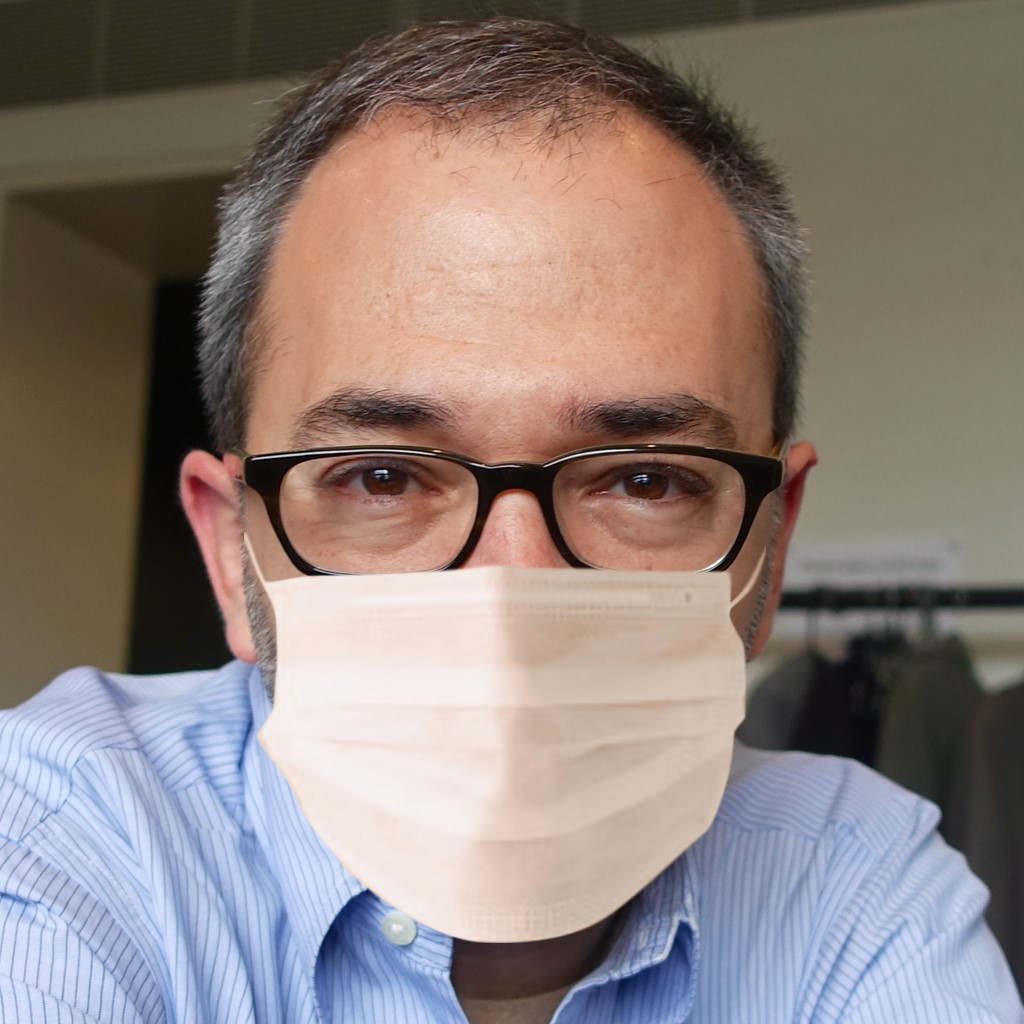con_mascara: (213, 64, 782, 962)
